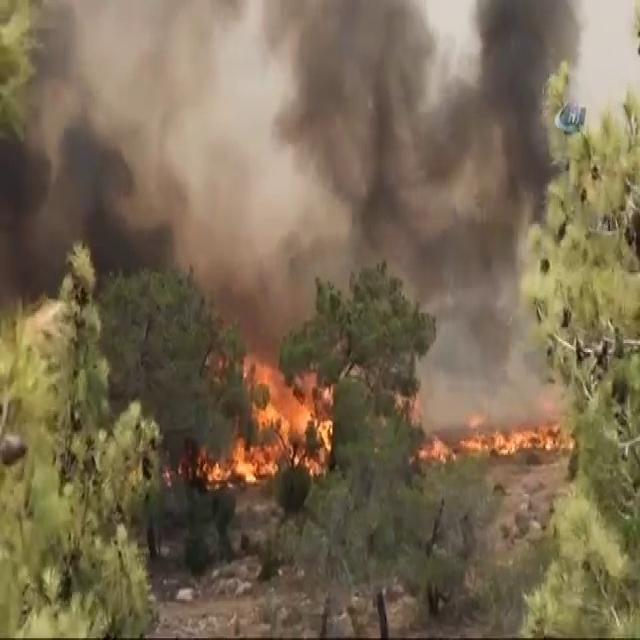Fire: (194, 354, 336, 486), (415, 416, 571, 463)
Smoke: (14, 4, 546, 251), (399, 18, 582, 386), (439, 302, 550, 409)
